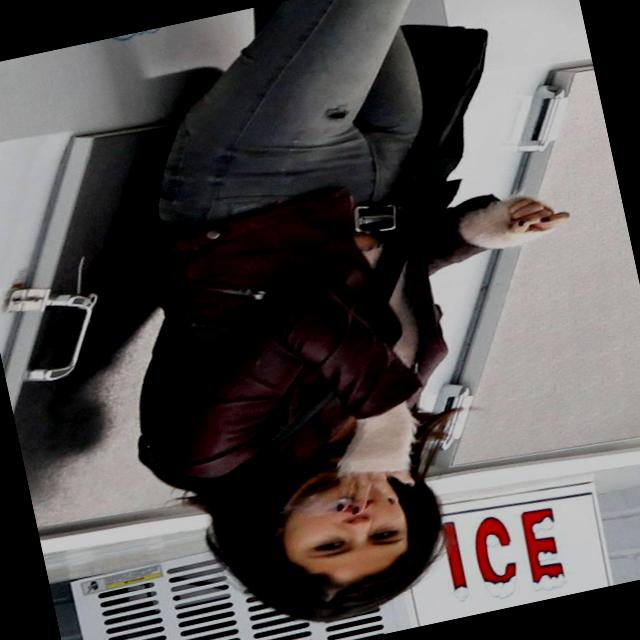smoke: (328, 489, 366, 511)
